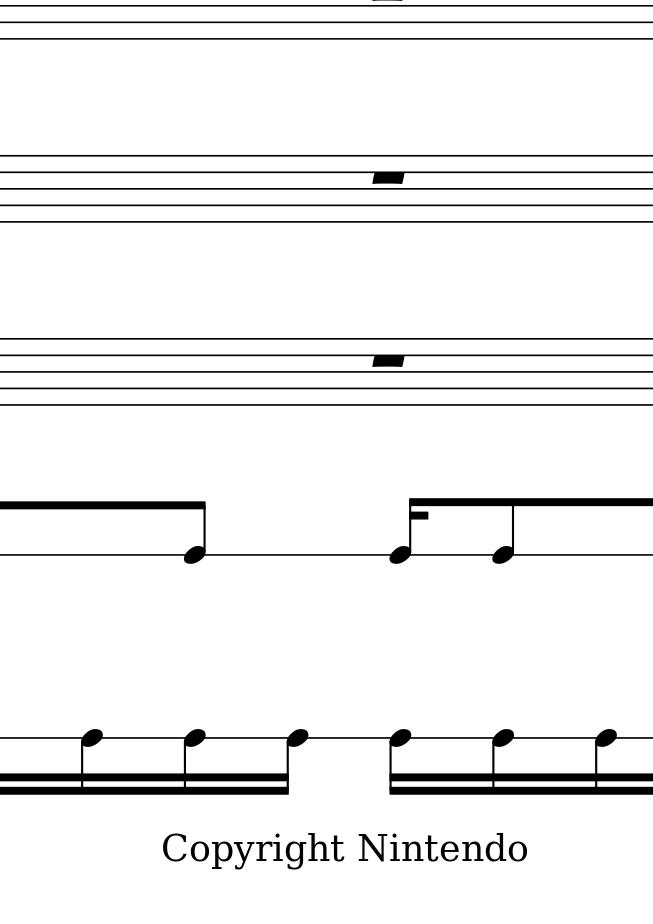16_4: (387, 496, 429, 565), (279, 729, 311, 797), (80, 728, 103, 798), (182, 728, 205, 798), (388, 729, 411, 799), (491, 727, 514, 797), (593, 726, 616, 796)
8_4: (184, 500, 209, 568), (490, 495, 515, 563)
Rests1: (369, 351, 408, 370), (369, 168, 408, 186)
